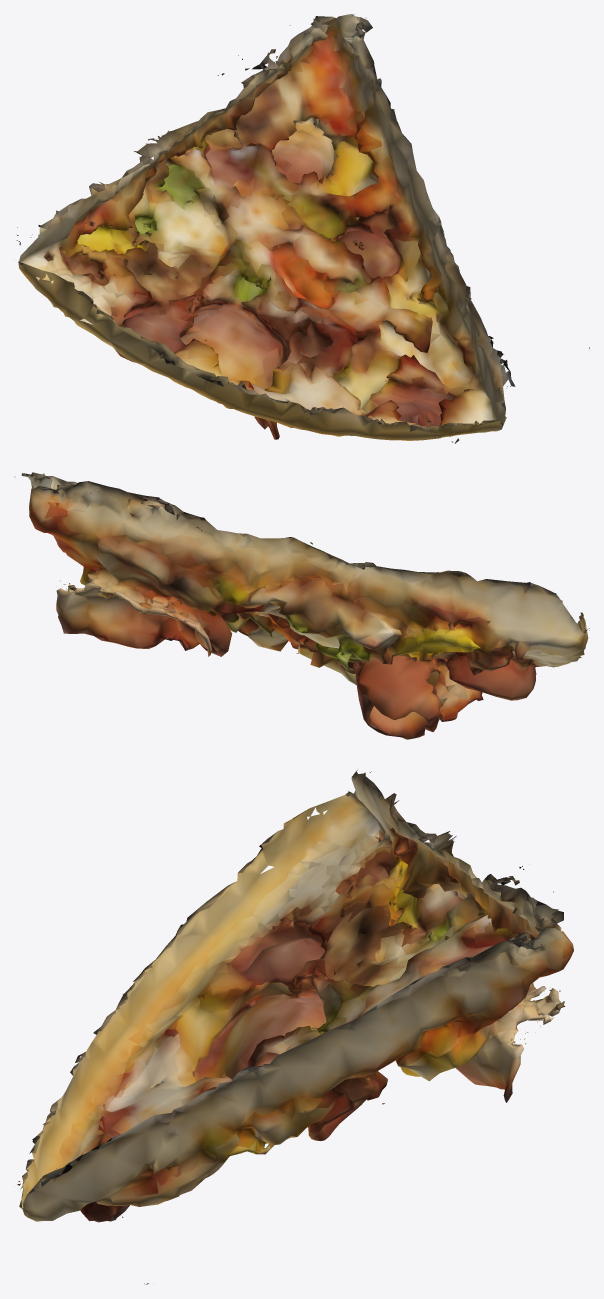
Rendered from pizza_10611.obj.
The picture shows the model from 3 angles, top to bottom: view 1: azimuth 30°, elevation 25°; view 2: azimuth 150°, elevation 25°; view 3: azimuth 270°, elevation 25°; orthographic projection. The views are drawn at different scales.
Size of the model in its own units: 1.61 by 0.8475 by 1.27.
1 material, 1 textured.
